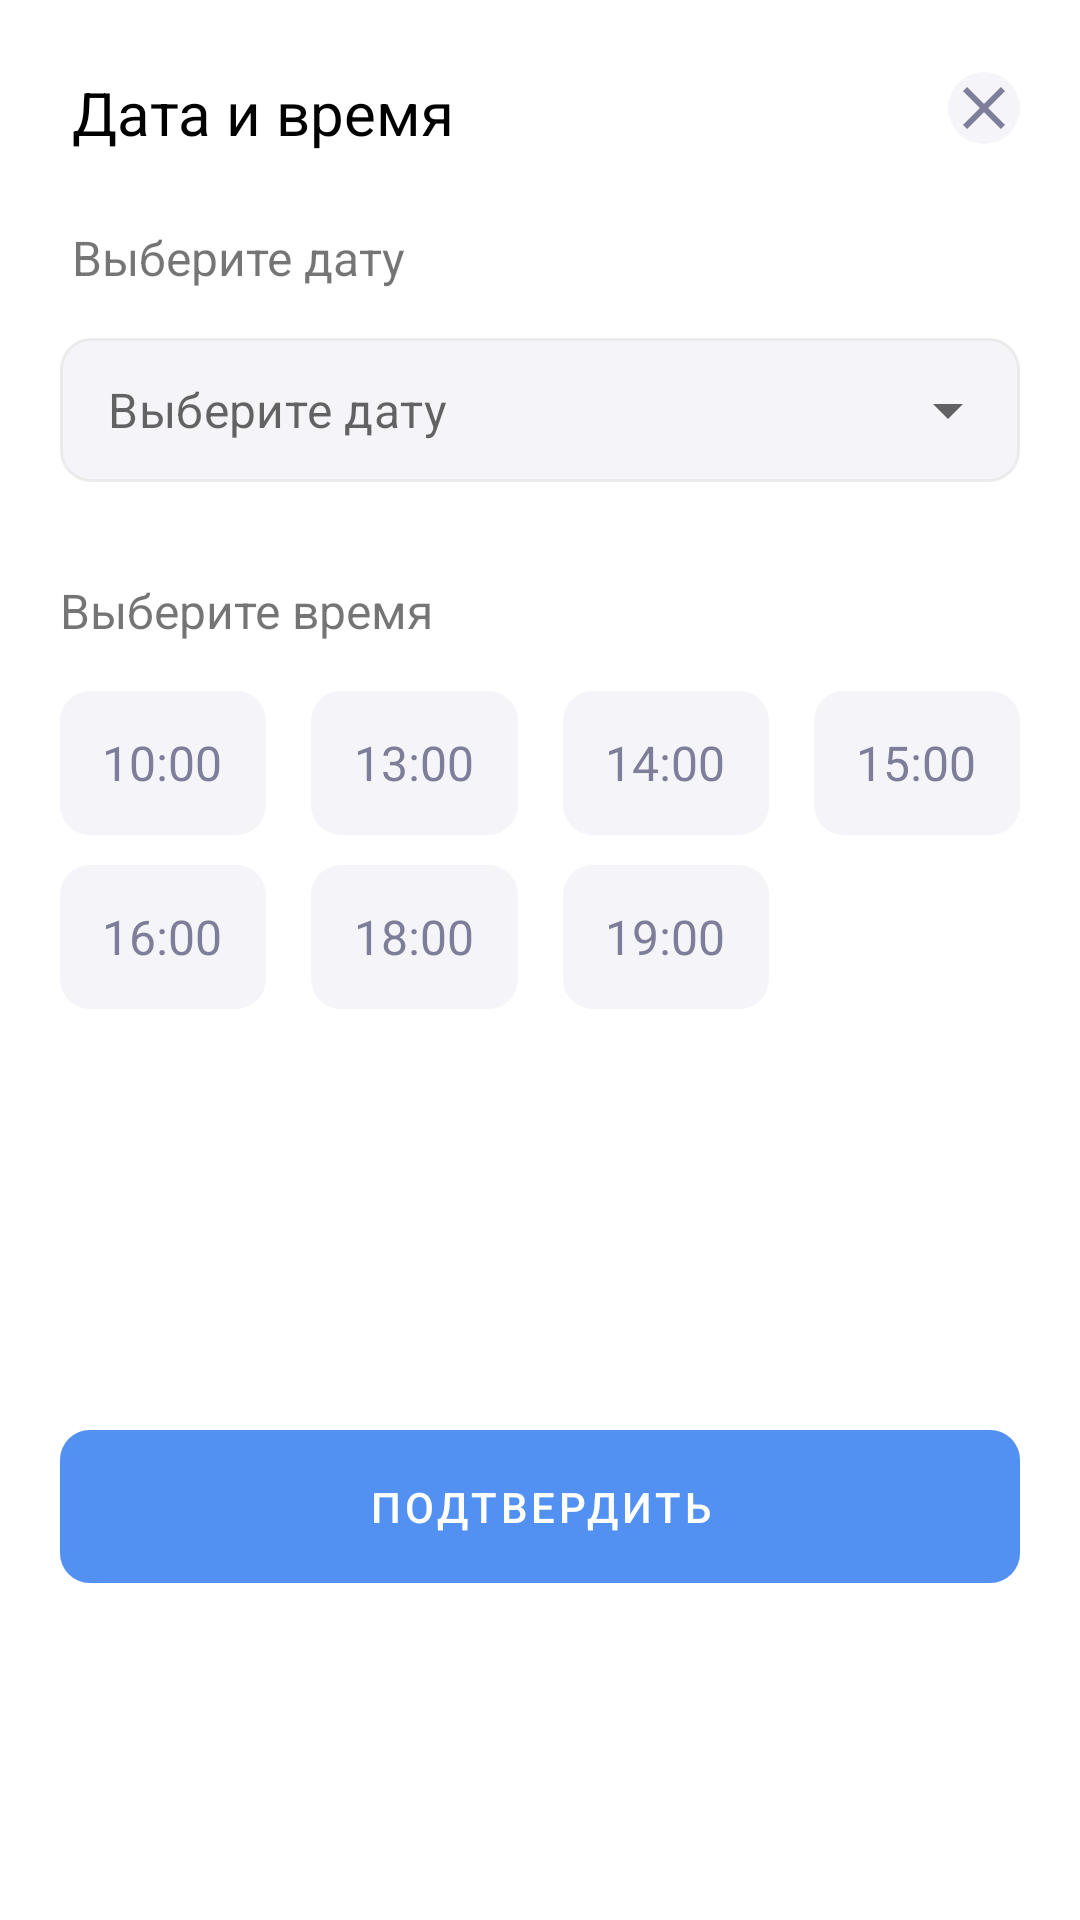

Icons on this 1080 × 1920 Android screen, each with the point to tap as (x=x, y=y):
close: (x=984, y=108)
